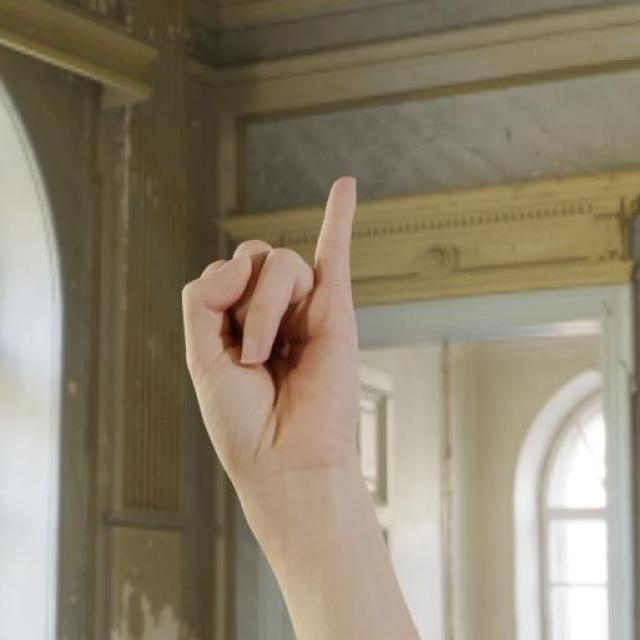I: (179, 175, 367, 470)
